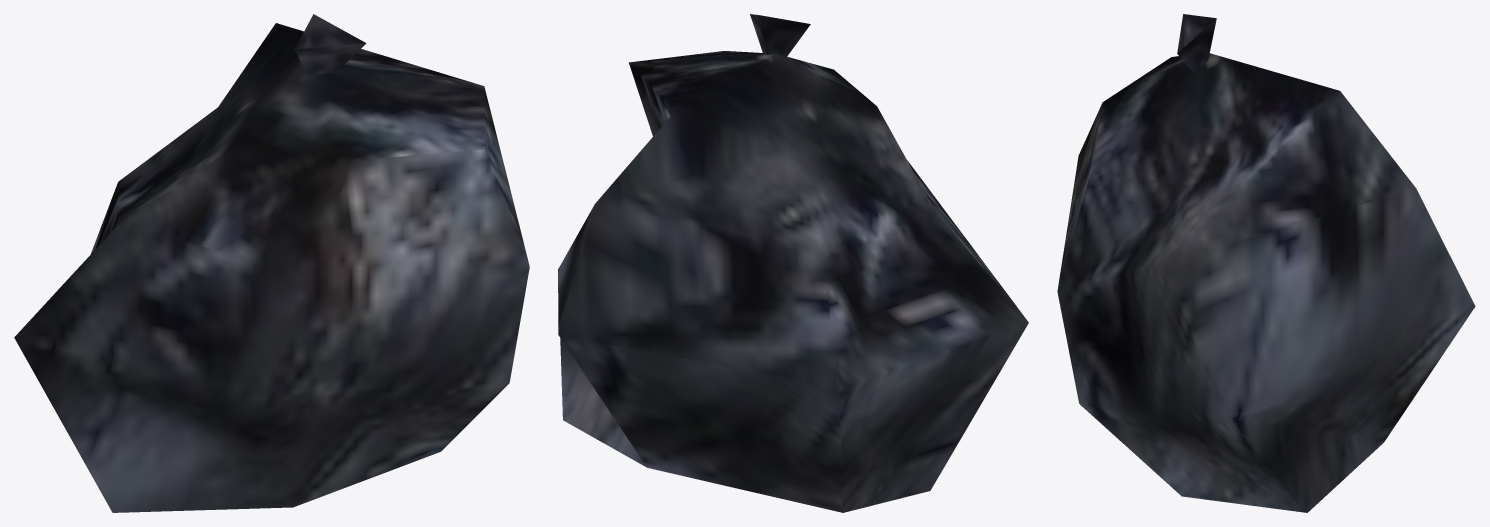
File: BolsaBasura3.fbx
3 views of the same model, side by side, from view 1: azimuth 30°, elevation 25°; view 2: azimuth 150°, elevation 25°; view 3: azimuth 270°, elevation 25° (orthographic). The views are drawn at different scales.
Parts seen in each view (by area): view 1: Bolsa_Basura; view 2: Bolsa_Basura; view 3: Bolsa_Basura.
Boxes of the visible parts, <box> form: Bolsa_Basura: <box>14,14,529,512</box>; Bolsa_Basura: <box>558,14,1028,512</box>; Bolsa_Basura: <box>1057,14,1475,512</box>.
Bounding box in the file's own units: 0.9676 × 0.7326 × 0.8413.
Materials: 1 (1 with a texture image).
